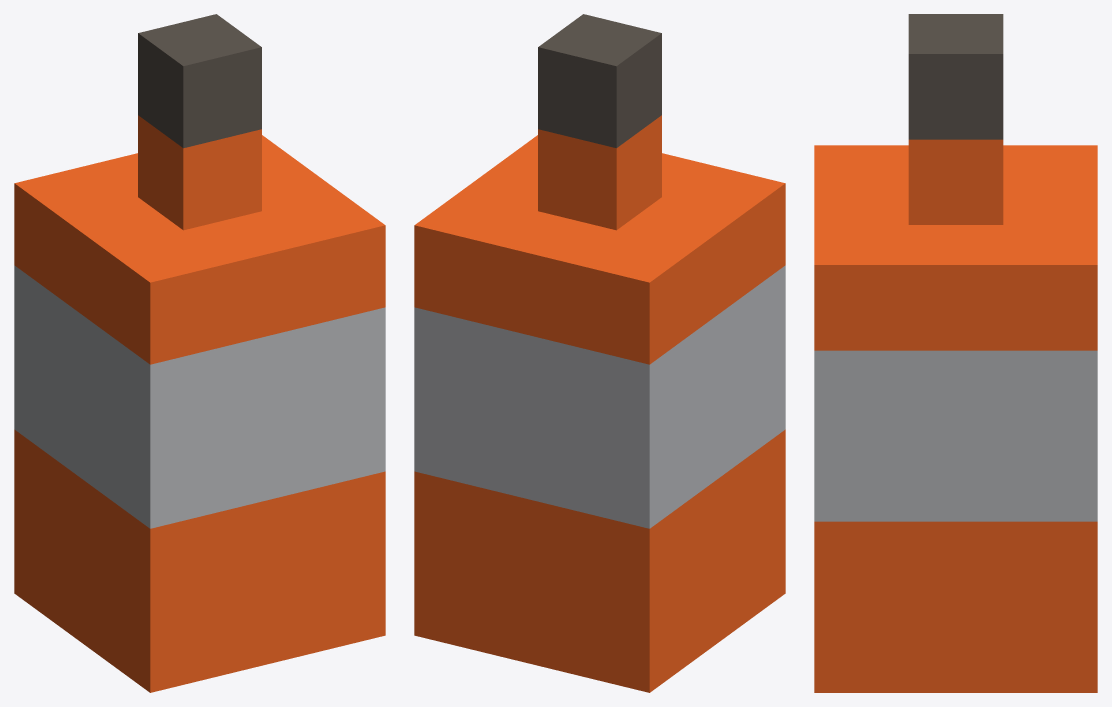
File: bottle_d.obj
3 renders of one model, left to right at view 1: azimuth 30°, elevation 25°; view 2: azimuth 150°, elevation 25°; view 3: azimuth 270°, elevation 25°, orthographic. The views are drawn at different scales.
Size of the model in its own units: 0.3 by 0.7 by 0.3.
1 material, 1 textured.
